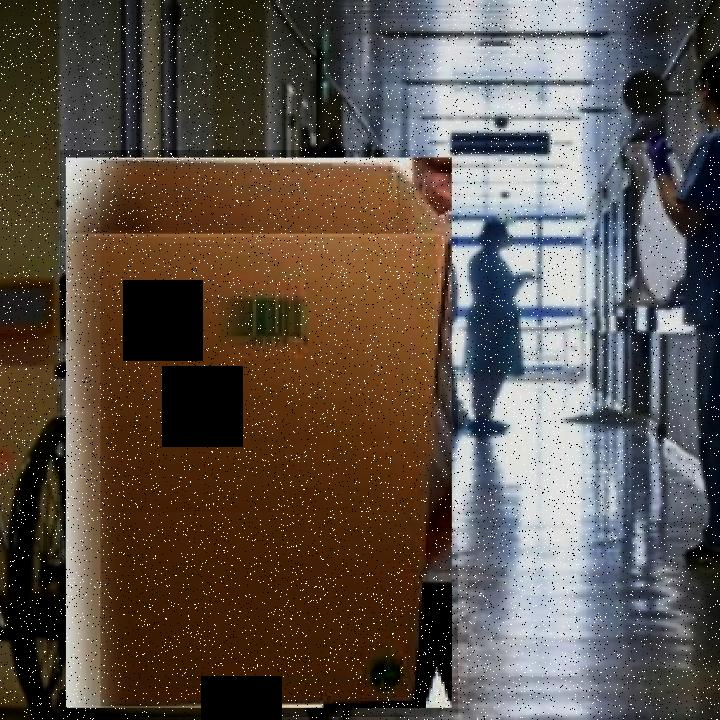box: (60, 150, 459, 717)
